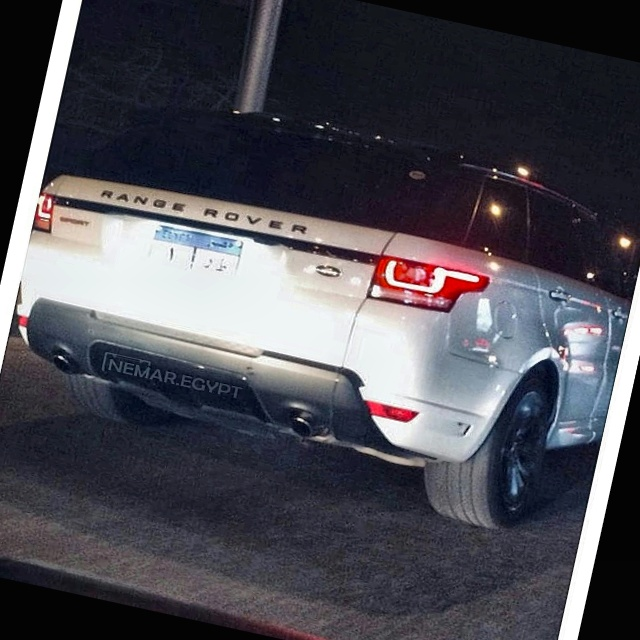License Plate: (144, 219, 247, 283)
